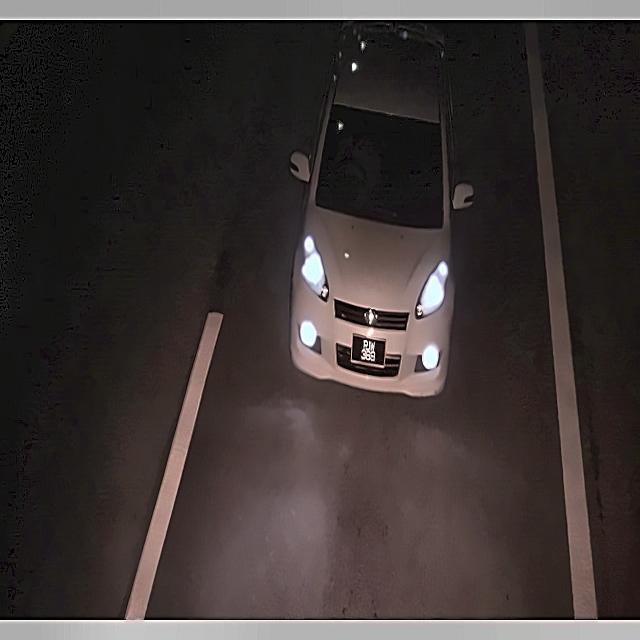car: (353, 331, 383, 369)
